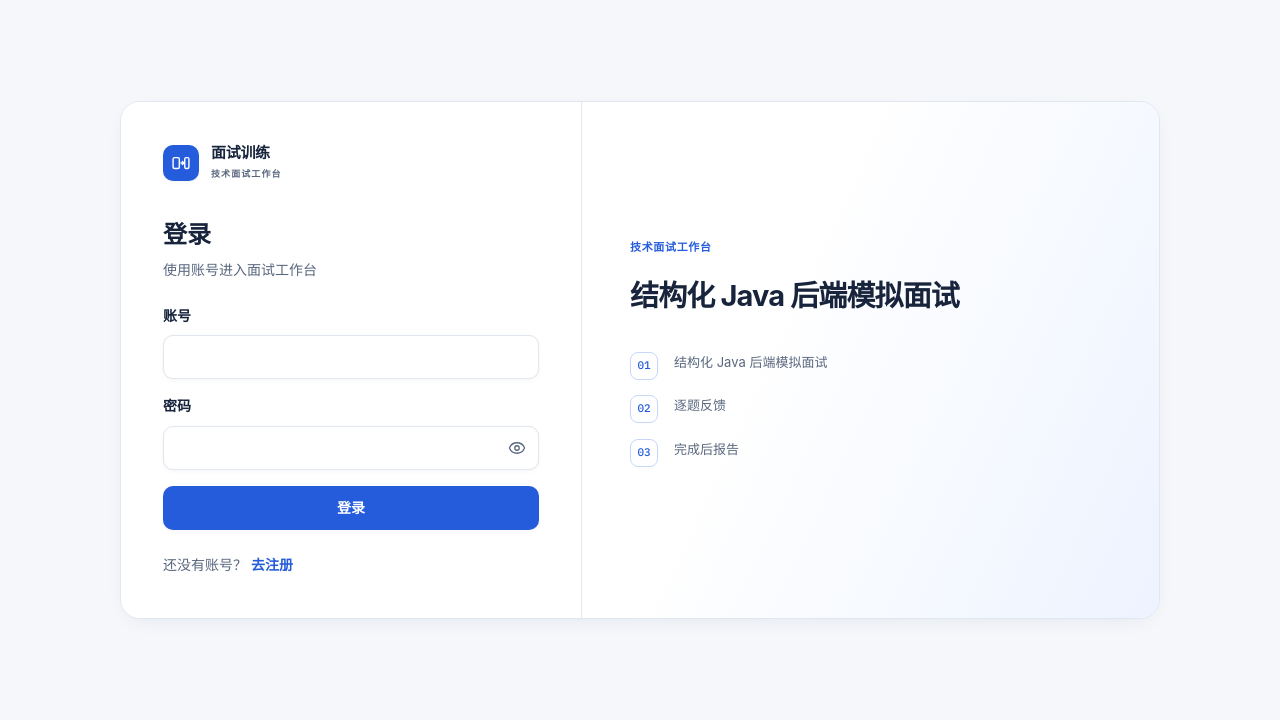
it: LoginView › does not render a credential failure after login 200 and /me transient failure
In the field with id "login-account": (351, 357) x1=163 y1=335 x2=539 y2=379, type "alice"
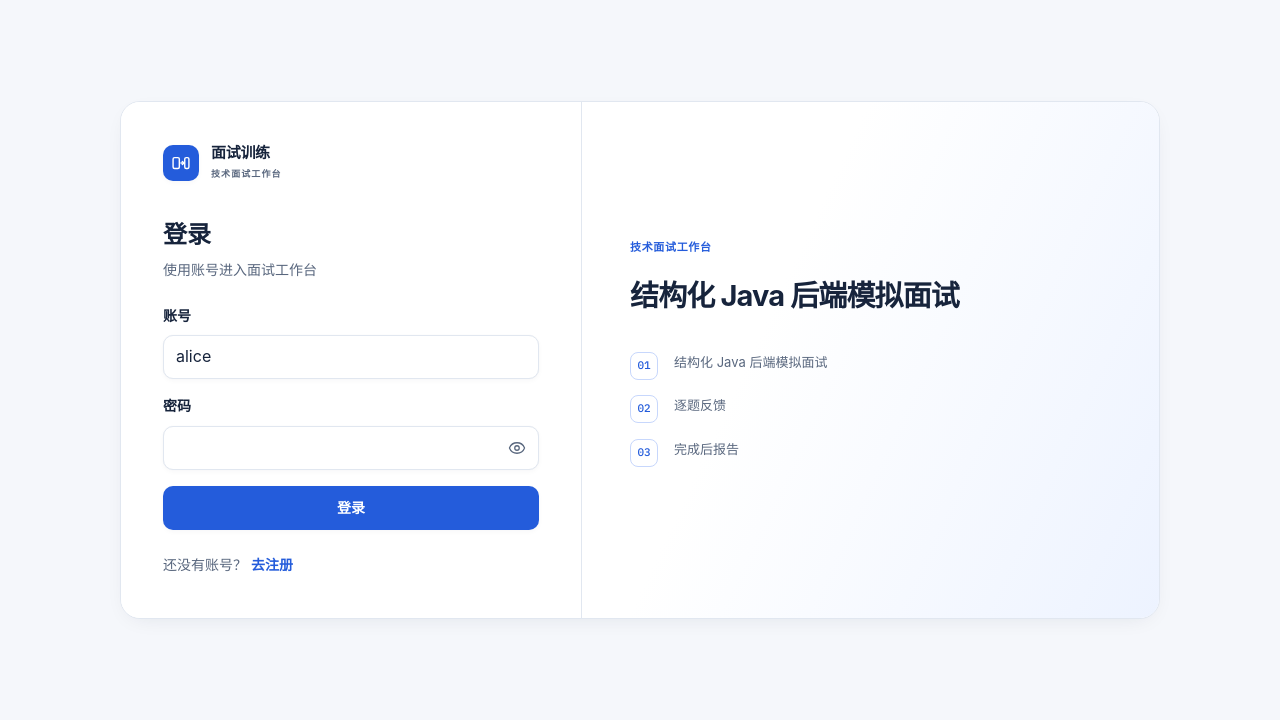
In the password field with id "login-password": (351, 448) x1=163 y1=426 x2=539 y2=470, type "password1"
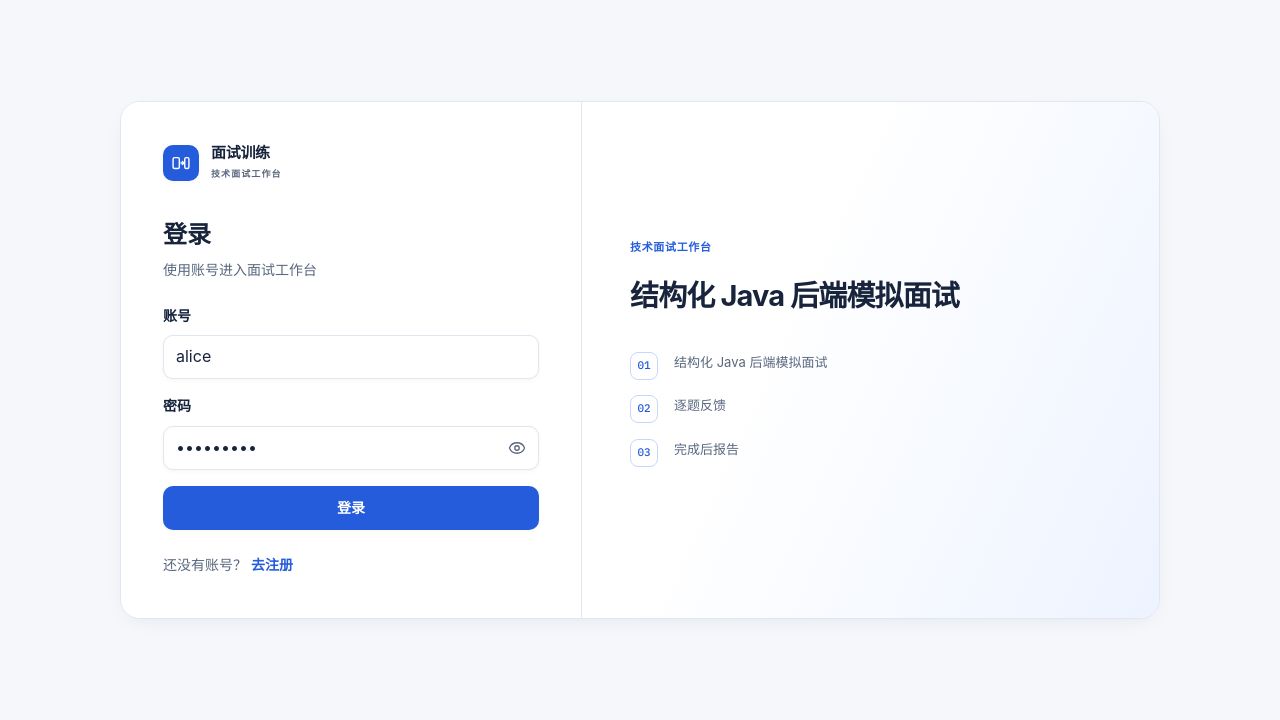
Submit the form, box x1=163 y1=305 x2=539 y2=530
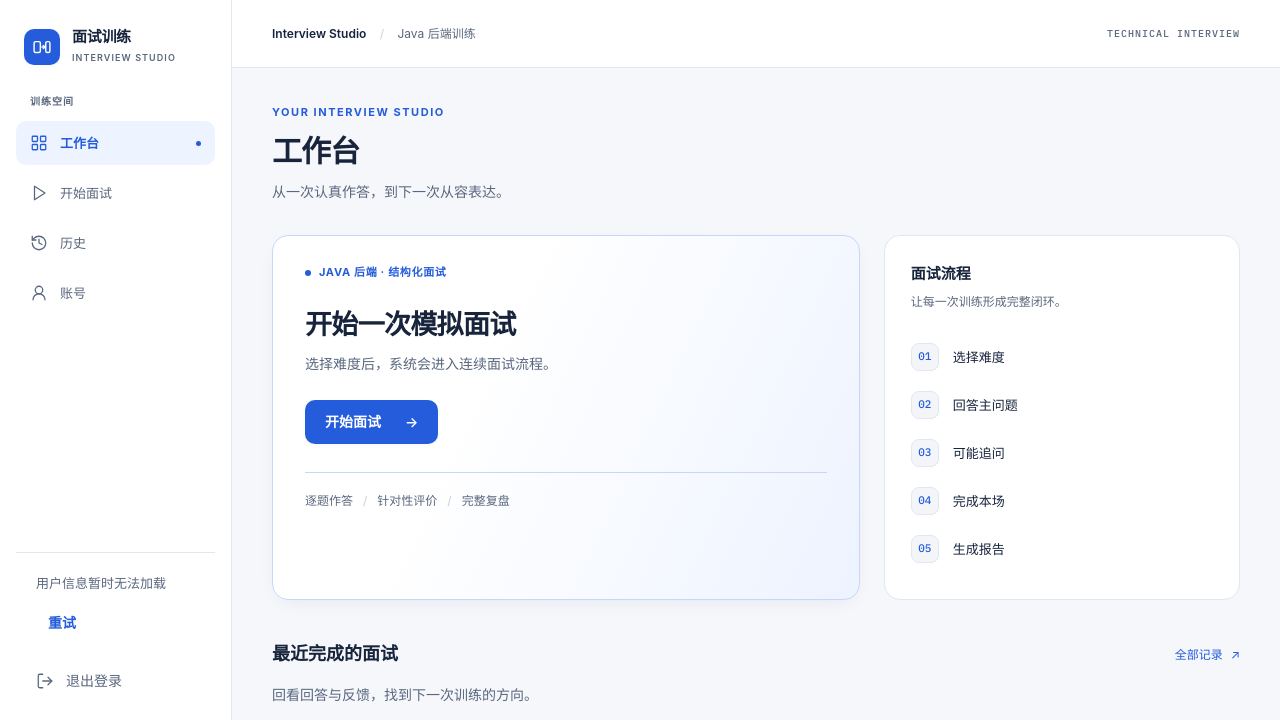
Expected: the text "用户信息暂时无法加载" is shown, x1=36 y1=575 x2=166 y2=591
